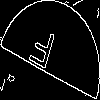F: (25, 25, 57, 79)
